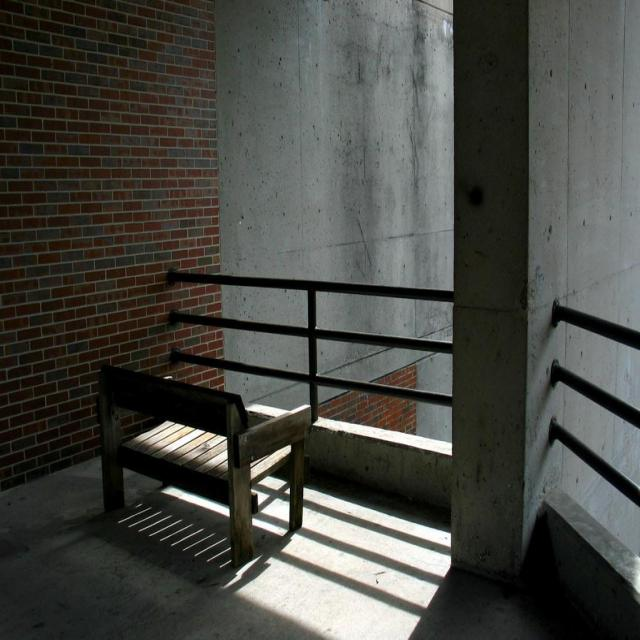table: (101, 362, 313, 566)
